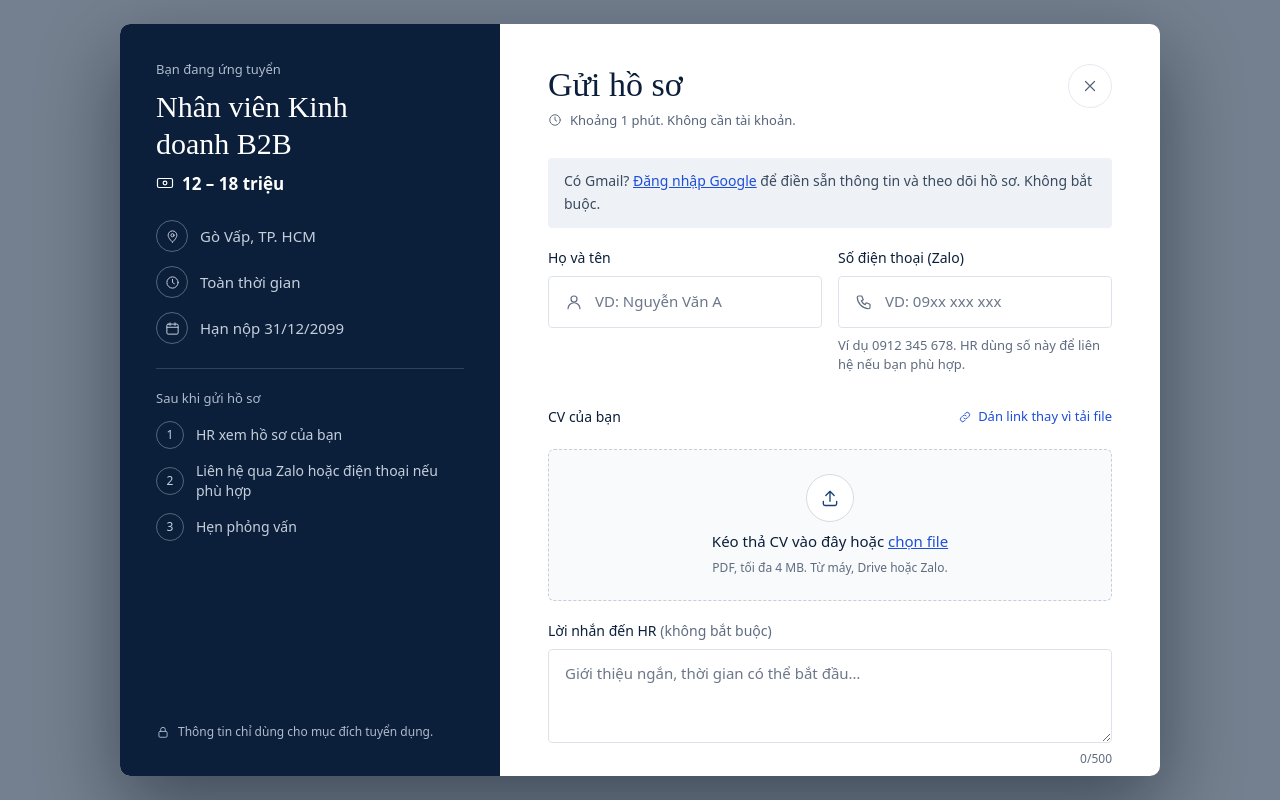
Scenario: ApplyDialog › formats the phone number while it is typed
In the field labelled "Số điện thoại (Zalo)": (990, 302) [885,290,1095,313], type "+84912345678"
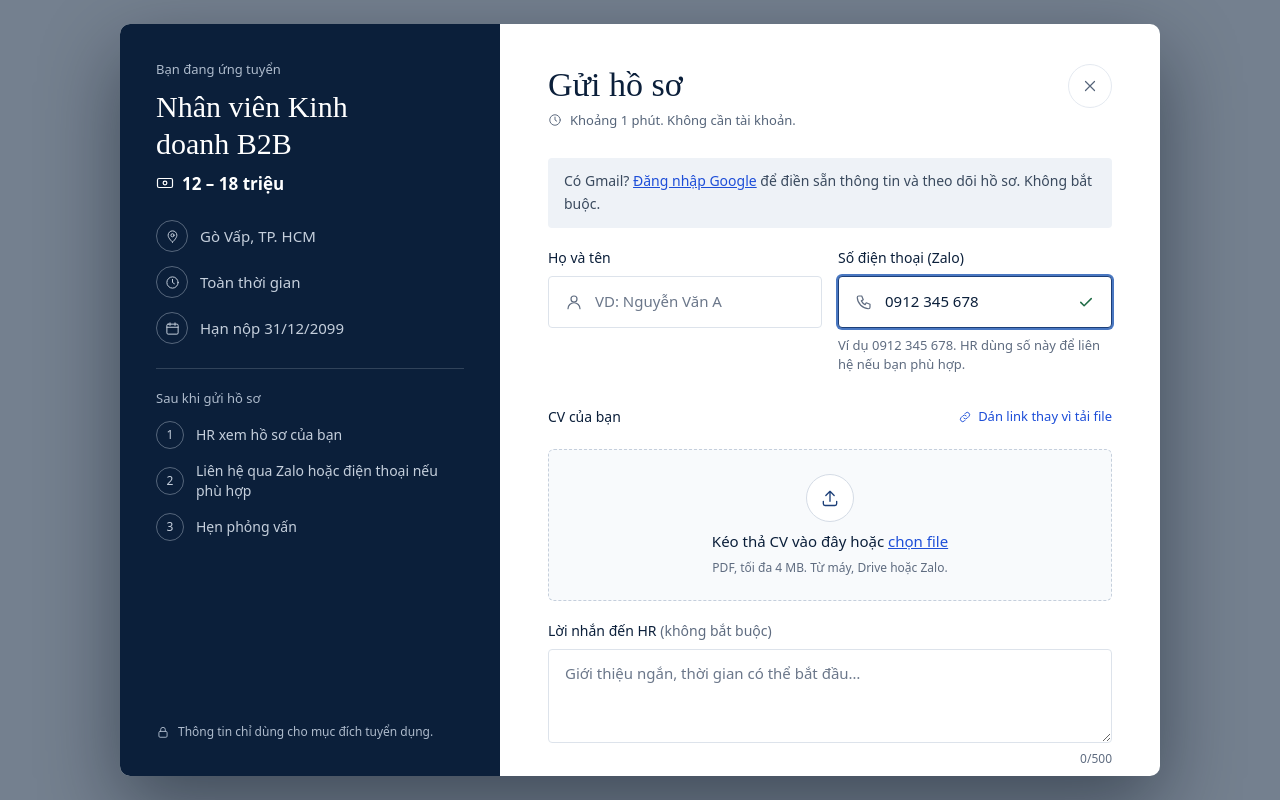
Expected: the field labelled "Số điện thoại (Zalo)" holds "0912 345 678", [885,290,1065,313]
